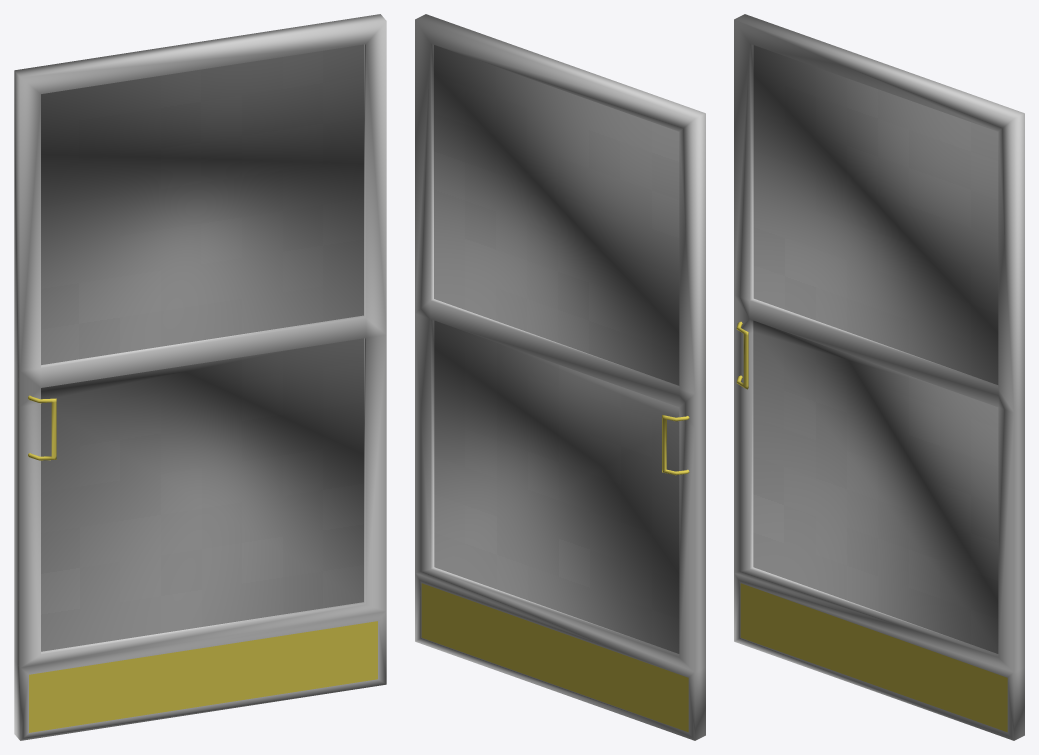
Rendered from SW_corridor__R_lobby_R_Aula_Ovi_2_Ikkunaa.FBX.
The picture shows the model from 3 angles, left to right: view 1: azimuth 30°, elevation 25°; view 2: azimuth 150°, elevation 25°; view 3: azimuth 330°, elevation 25°; orthographic projection. The views are drawn at different scales.
Visible parts, largest first — view 1: SW_corridor__R_lobby_R_Aula_Ovi_2_Ikkunaa; view 2: SW_corridor__R_lobby_R_Aula_Ovi_2_Ikkunaa; view 3: SW_corridor__R_lobby_R_Aula_Ovi_2_Ikkunaa.
Boxes of the visible parts, <box> form: SW_corridor__R_lobby_R_Aula_Ovi_2_Ikkunaa: <box>14,14,386,740</box>; SW_corridor__R_lobby_R_Aula_Ovi_2_Ikkunaa: <box>415,14,705,740</box>; SW_corridor__R_lobby_R_Aula_Ovi_2_Ikkunaa: <box>734,14,1024,740</box>.
Size of the model in its own units: 108 by 27.04 by 204.
